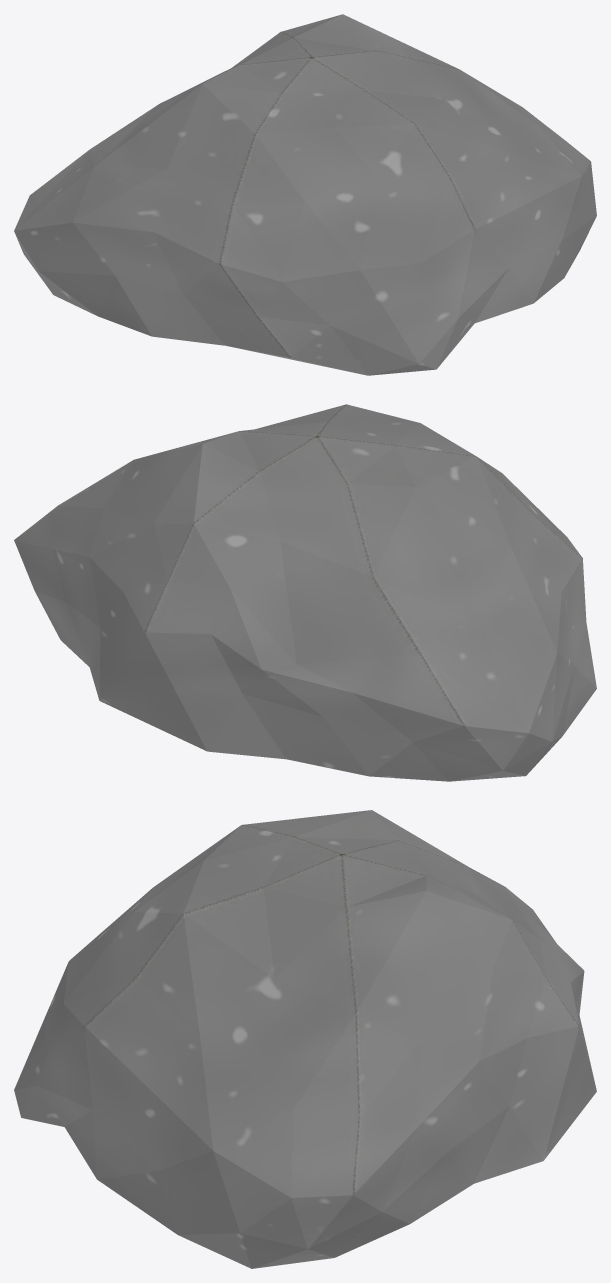
File: rock.glb
The picture shows the model from 3 angles, top to bottom: view 1: azimuth 30°, elevation 25°; view 2: azimuth 150°, elevation 25°; view 3: azimuth 270°, elevation 25°; orthographic projection. The views are drawn at different scales.
Visible parts, largest first — view 1: Icosphere; view 2: Icosphere; view 3: Icosphere.
Part boxes in pixels (x1,y1,x2,y2): Icosphere: (14,14,596,375); Icosphere: (14,404,596,781); Icosphere: (14,810,596,1268).
Bounding box in the file's own units: 4.95 × 2.13 × 4.05.
Materials: 1 (1 with a texture image).
